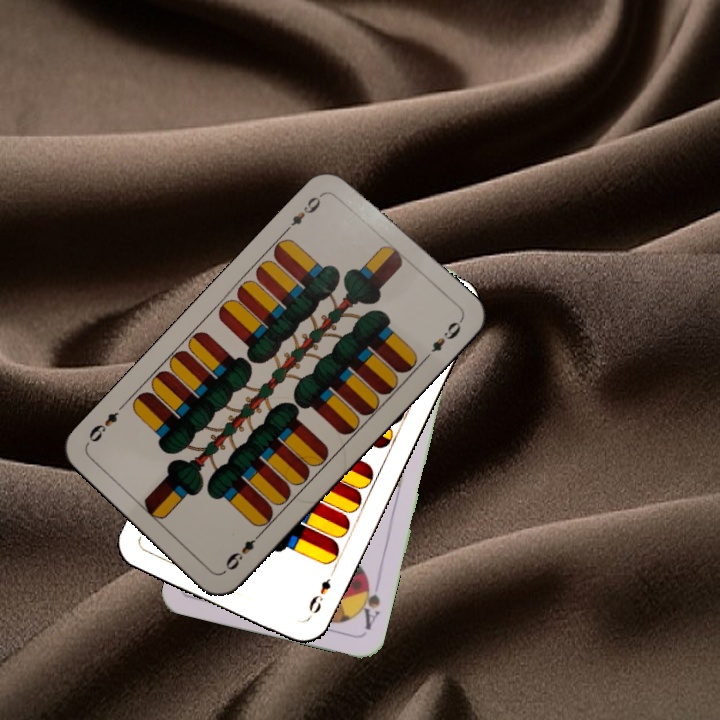E9: (281, 188, 328, 234), (220, 528, 265, 575), (304, 566, 338, 621)
SA: (354, 573, 383, 633)
